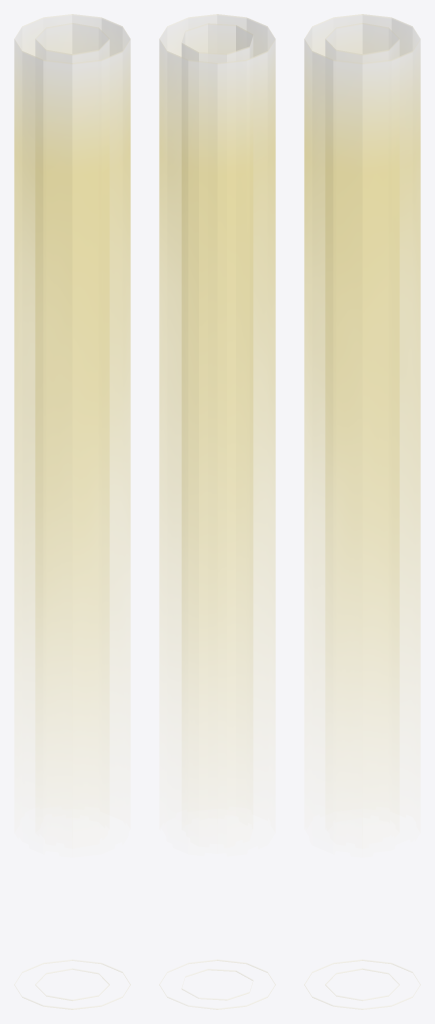
The model's file is fx_mpillar.glb.
3 views of the same model, side by side, from view 1: azimuth 90°, elevation 25°; view 2: azimuth 150°, elevation 25°; view 3: azimuth 270°, elevation 25° (orthographic).
Parts seen in each view (by area): view 1: fx_pillar; view 2: fx_pillar; view 3: fx_pillar.
Boxes of the visible parts, x1,y1,x2,y2 form: fx_pillar: (14,14,130,1009); fx_pillar: (159,14,275,1009); fx_pillar: (304,14,420,1009).
Size of what is drawn, in the model's own units: 1 by 9 by 1.
1 material, 1 textured.
